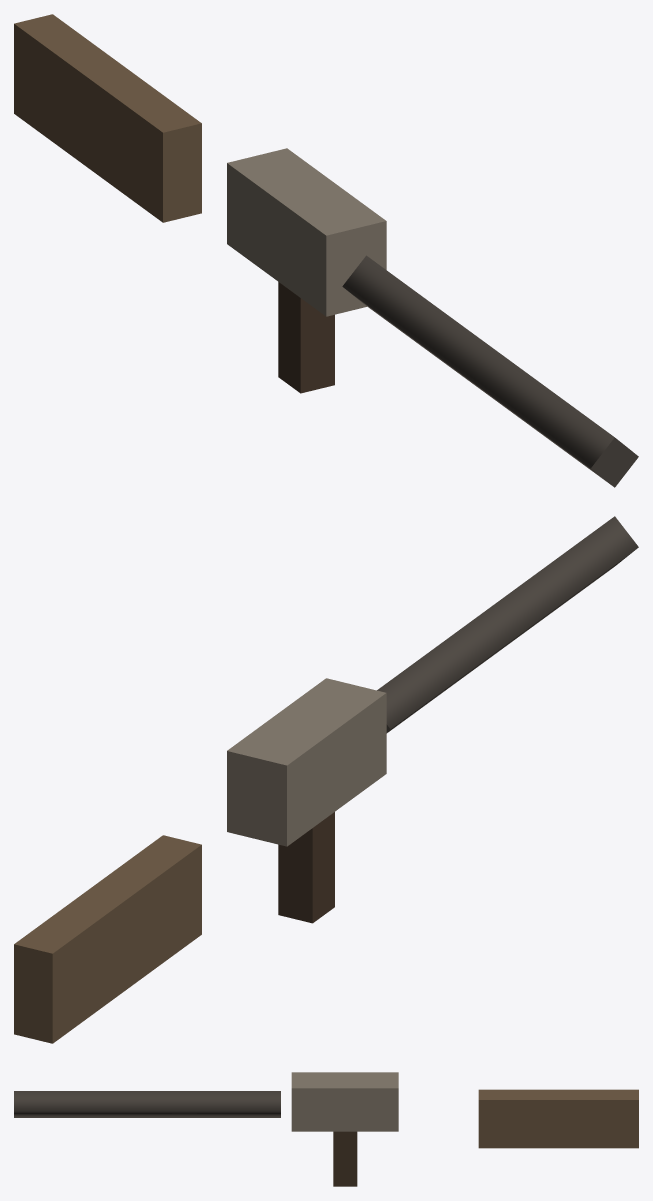
3 renders of one model, top to bottom at view 1: azimuth 30°, elevation 25°; view 2: azimuth 150°, elevation 25°; view 3: azimuth 270°, elevation 25°, orthographic. The views are drawn at different scales.
Parts seen in each view (by area): view 1: raider_weapon_pipe_gun; view 2: raider_weapon_pipe_gun; view 3: raider_weapon_pipe_gun.
Part boxes in pixels (x1,y1,x2,y2): raider_weapon_pipe_gun: (14,14,638,487); raider_weapon_pipe_gun: (14,516,638,1043); raider_weapon_pipe_gun: (14,1072,638,1186).
Bounding box in the file's own units: 0.07 × 0.21 × 1.17.
